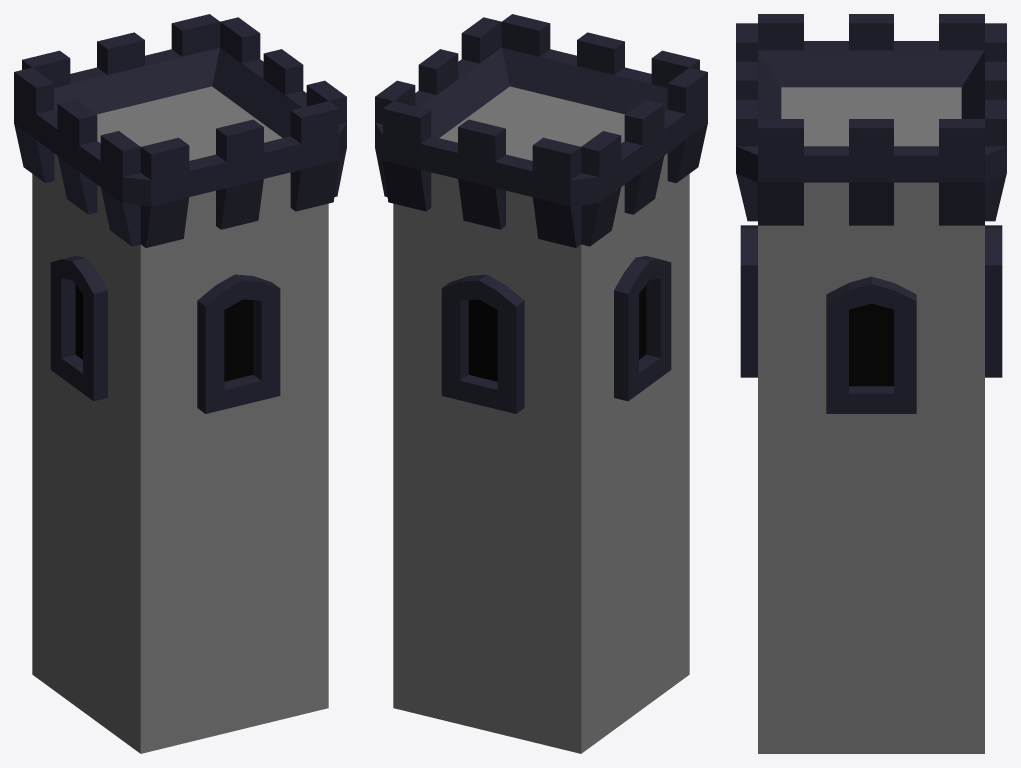
The model's file is Defence Single.fbx.
3 views of the same model, side by side, from view 1: azimuth 30°, elevation 25°; view 2: azimuth 150°, elevation 25°; view 3: azimuth 270°, elevation 25° (orthographic). The views are drawn at different scales.
Visible parts, largest first — view 1: Defense Single; view 2: Defense Single; view 3: Defense Single.
Part boxes in pixels (bbox=[...]): Defense Single: bbox=[14, 14, 346, 753]; Defense Single: bbox=[375, 14, 707, 753]; Defense Single: bbox=[736, 14, 1006, 753].
Size of the model in its own units: 59.67 by 154 by 59.67.
